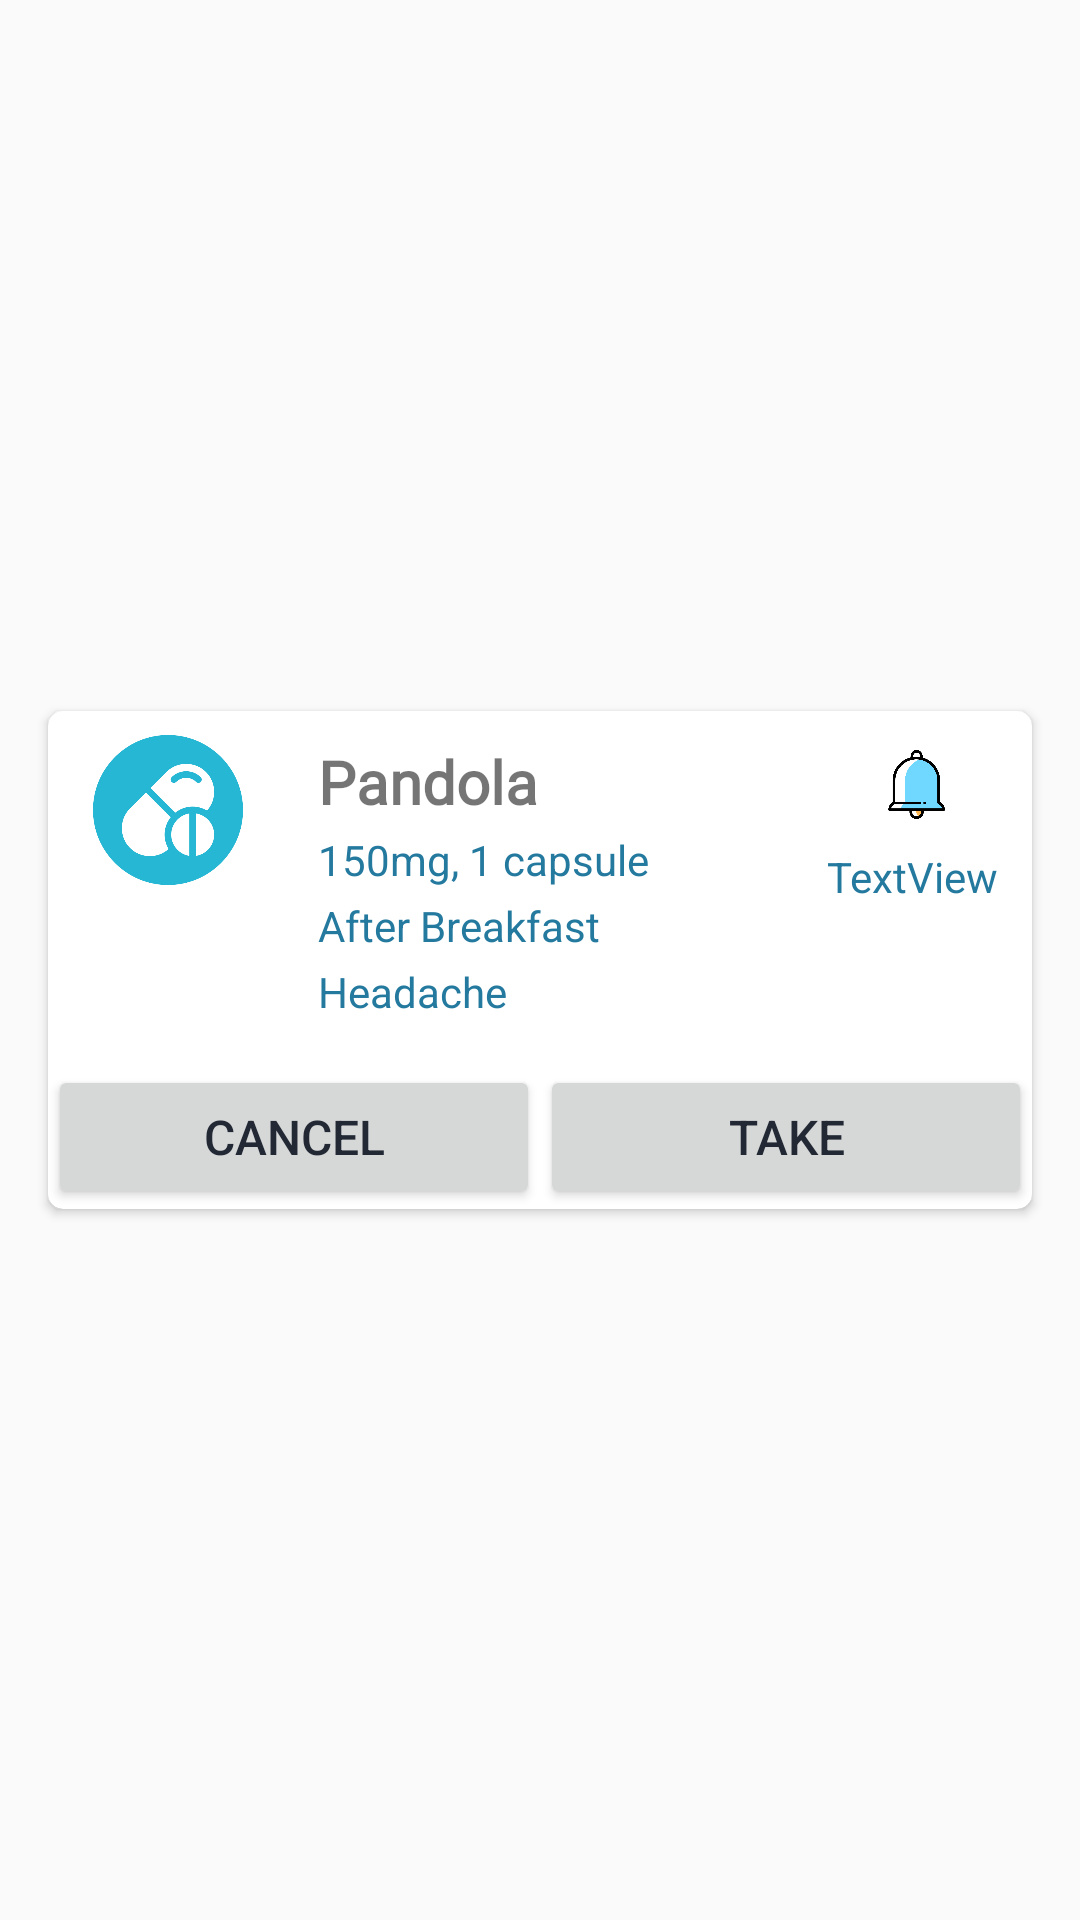

Point at icon controls on the screen. Image size 1080px x 1920px, points as (x,y).
medicine: (168,810)
notification bell: (916,784)
